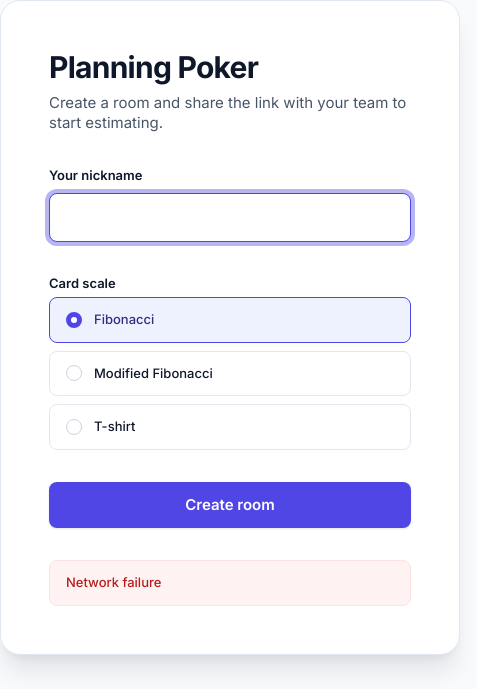
Test: CreateRoomForm — AC1 › local error takes precedence over external errorMessage
Click the button "Create room": (230, 505) x1=49 y1=482 x2=411 y2=528
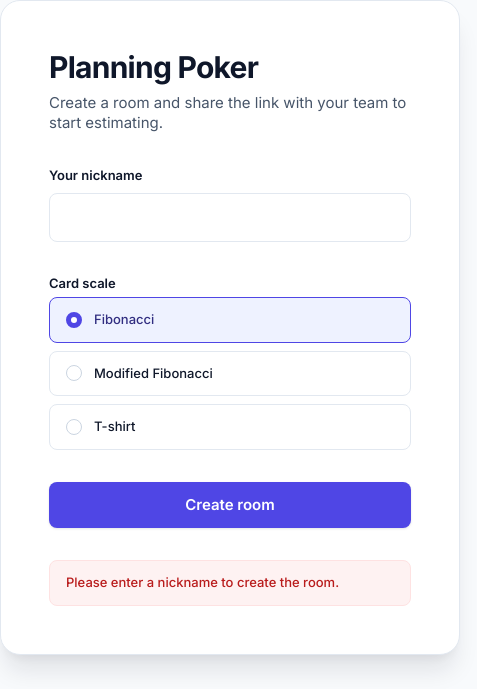
expect the message shows "nickname": met, box x1=66 y1=574 x2=339 y2=590
